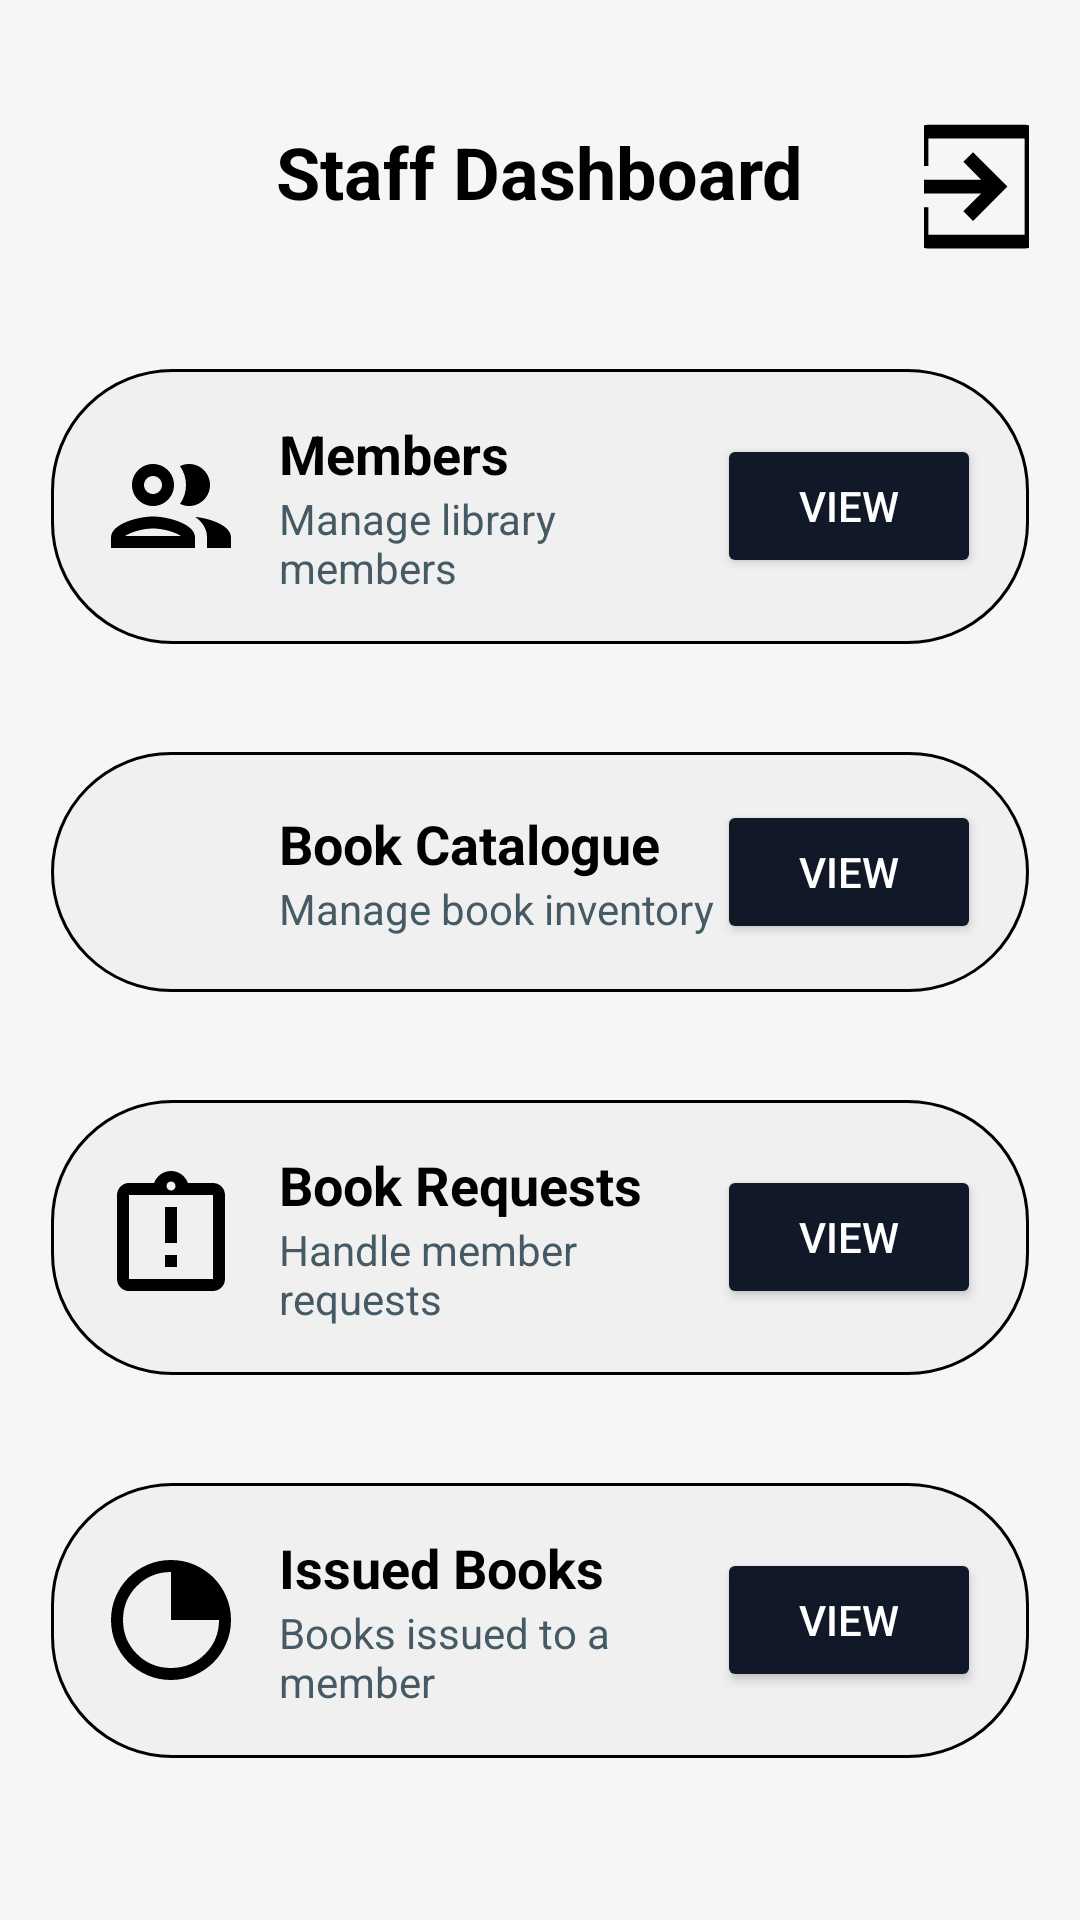

Named icons in this screenshot (1080w x 1920h) and their centers, (x,y):
member list: (171,506)
